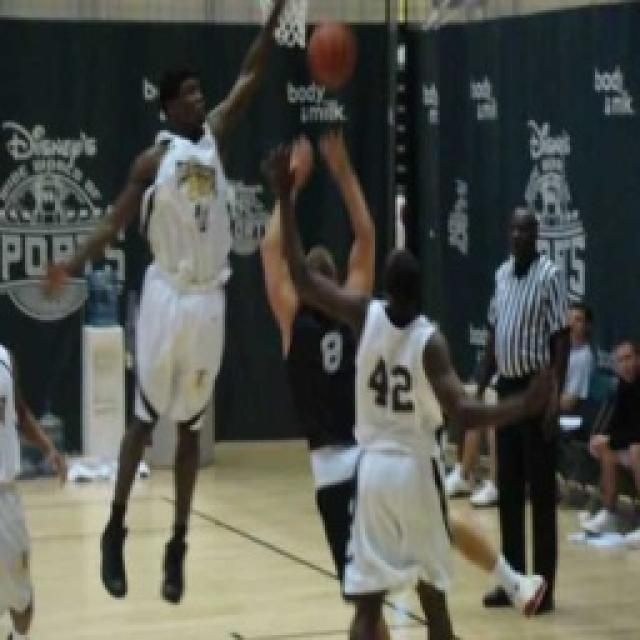rim: (298, 15, 360, 87)
